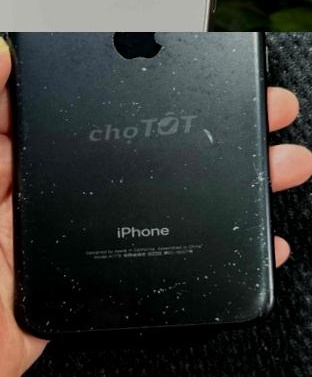scratch: (0, 32, 280, 340)
